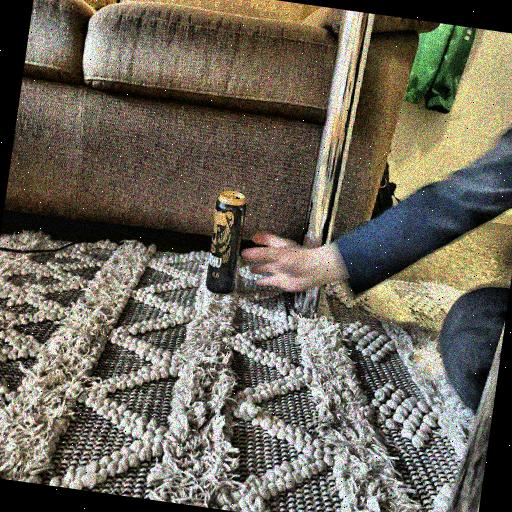karhu: (200, 189, 251, 298)
